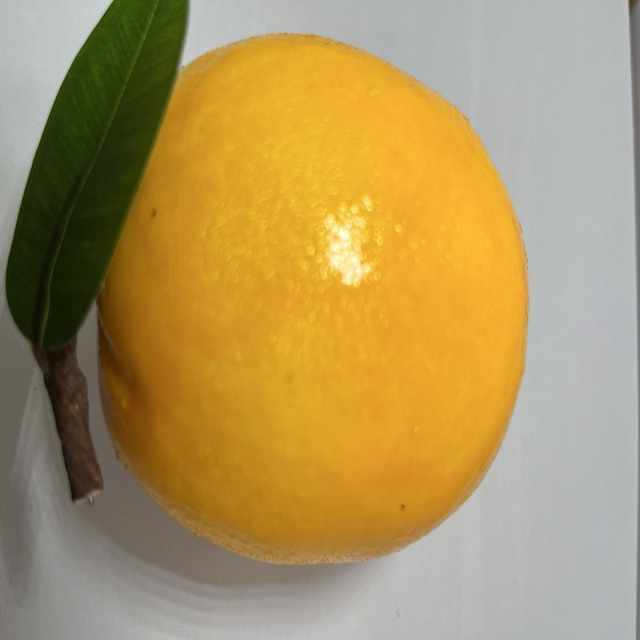Cam vang: (83, 24, 536, 575)
